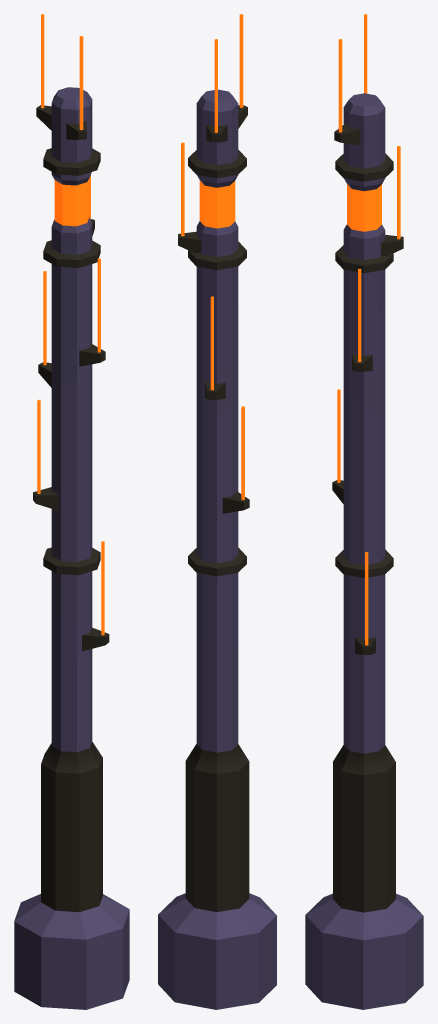
File: Antena_04.fbx
3 views of the same model, side by side, from view 1: azimuth 30°, elevation 25°; view 2: azimuth 150°, elevation 25°; view 3: azimuth 330°, elevation 25° (orthographic).
Visible parts, largest first — view 1: Antena_04; view 2: Antena_04; view 3: Antena_04.
Boxes of the visible parts, x1,y1,x2,y2 form: Antena_04: (14,14,129,1009); Antena_04: (158,14,276,1009); Antena_04: (305,14,423,1009).
Size of the model in its own units: 709 by 6576 by 709.
